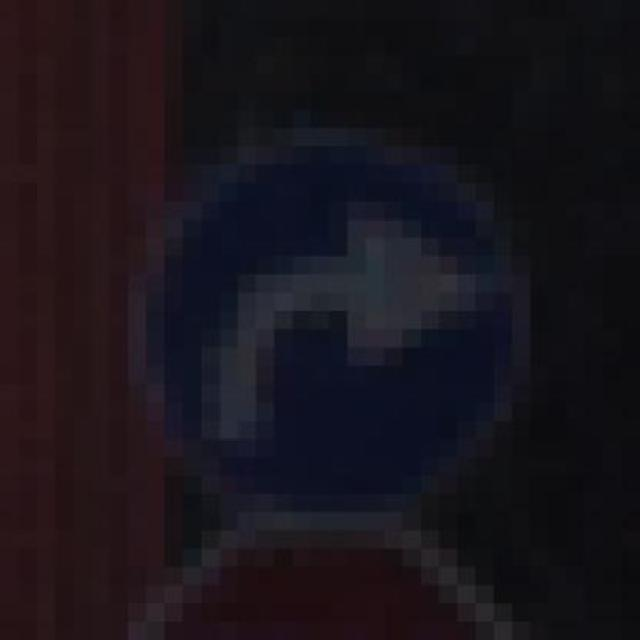Turn right ahead: (110, 91, 567, 567)
